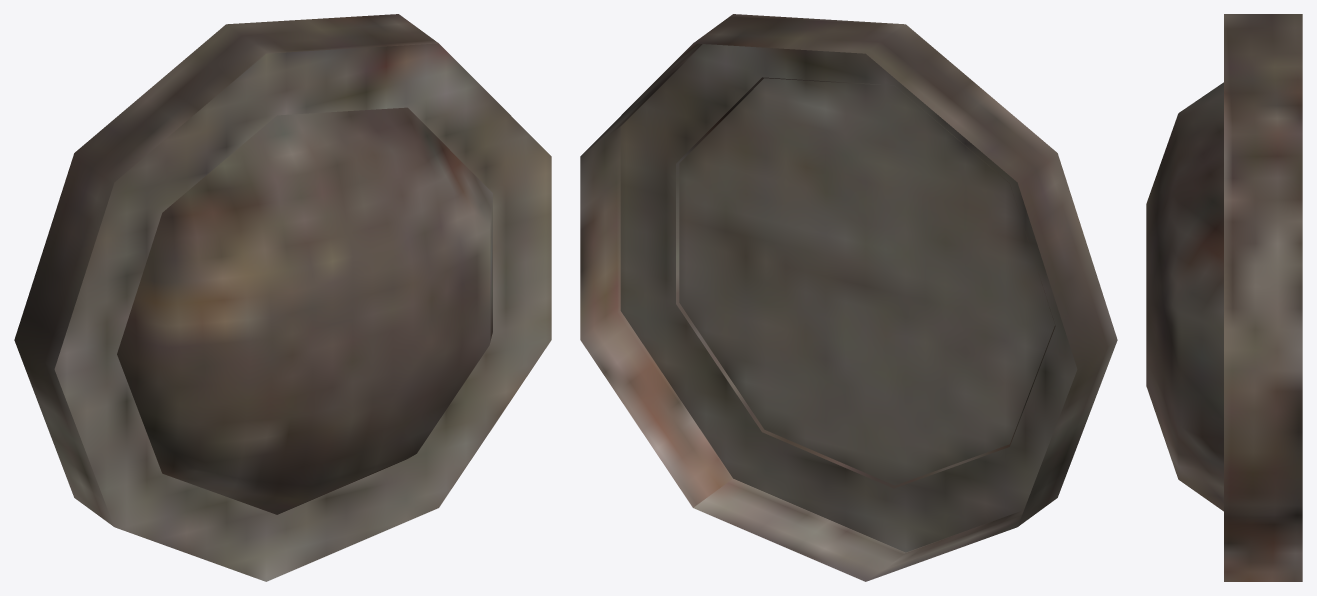
Rendered from ElectricalPoint_Short.FBX.
3 renders of one model, left to right at view 1: azimuth 30°, elevation 25°; view 2: azimuth 150°, elevation 25°; view 3: azimuth 270°, elevation 25°, orthographic. The views are drawn at different scales.
Parts seen in each view (by area): view 1: ElectricalPoint_Short; view 2: ElectricalPoint_Short; view 3: ElectricalPoint_Short.
Boxes of the visible parts, x1,y1,x2,y2 form: ElectricalPoint_Short: [14, 14, 551, 581]; ElectricalPoint_Short: [580, 14, 1117, 581]; ElectricalPoint_Short: [1146, 14, 1302, 581].
Size of the model in its own units: 9.5 by 9.65 by 2.65.
